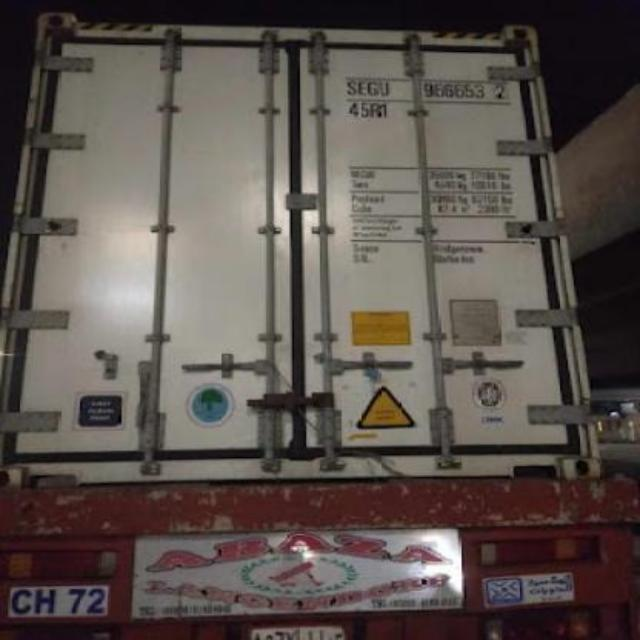2: (490, 76, 506, 105)
3: (474, 80, 488, 100)
5: (462, 78, 474, 104)
6: (452, 78, 464, 102), (431, 80, 444, 100), (442, 78, 452, 102)
9: (422, 76, 432, 100)
E: (356, 75, 368, 98)
G: (366, 78, 378, 99)
S: (344, 74, 356, 98)
U: (378, 77, 392, 97)
